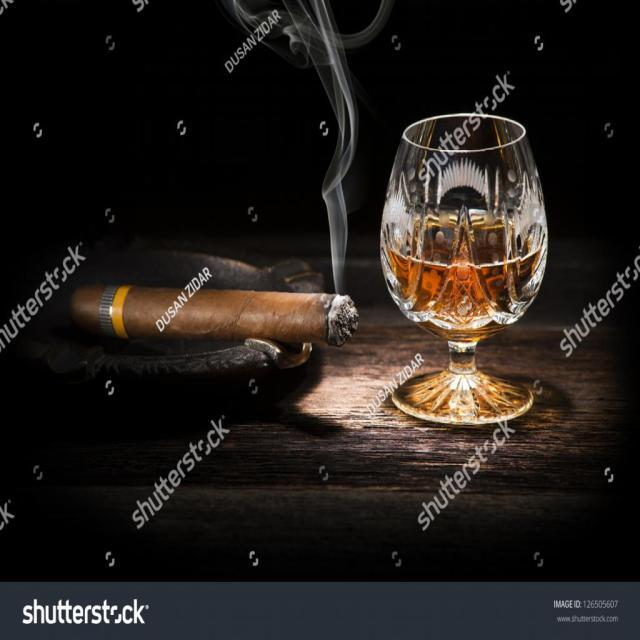smoking: (67, 283, 359, 347)
